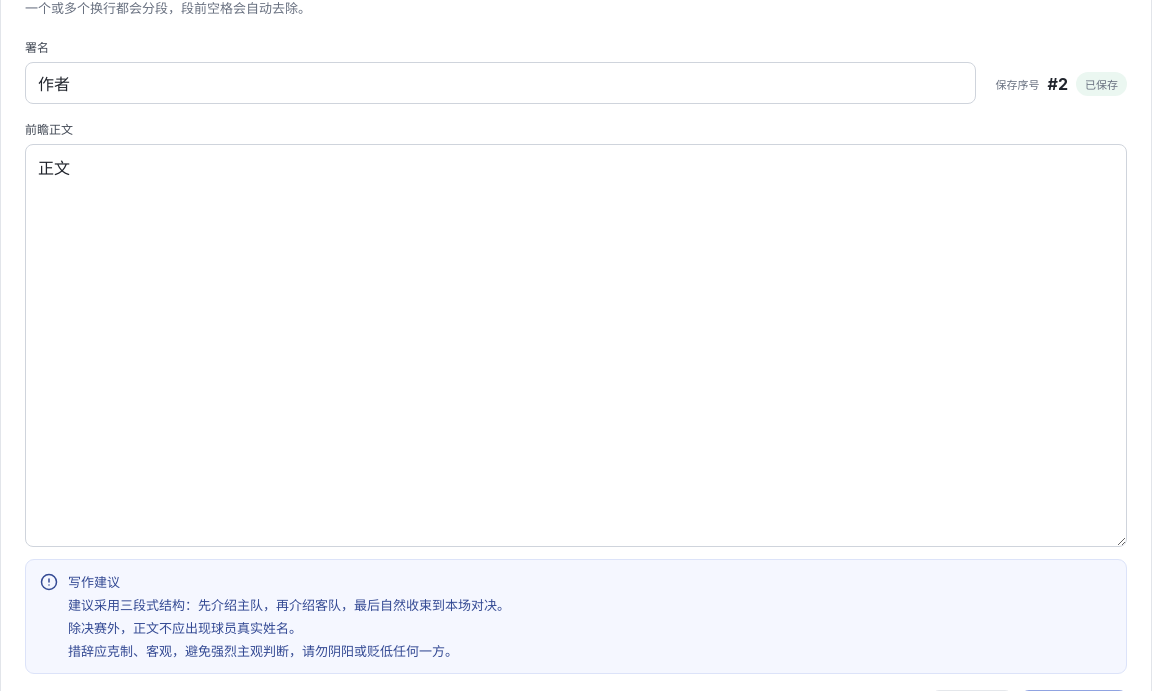
batch and match pages › shows match history fallbacks and protects unsaved navigation
(page scrolled)
Expected: the text "建议采用三段式结构：先介绍主队，再介绍客队，最后自然收束到本场对决。" is shown, x1=68 y1=597 x2=510 y2=613
Expected: the text "除决赛外，正文不应出现球员真实姓名。" is shown, x1=68 y1=620 x2=302 y2=636
Replace the text in the text box with placeholder "粘贴或填写本场比赛的前瞻正文……" with "尚未保存" at (576, 345), box x1=25 y1=144 x2=1127 y2=547
(page scrolled)
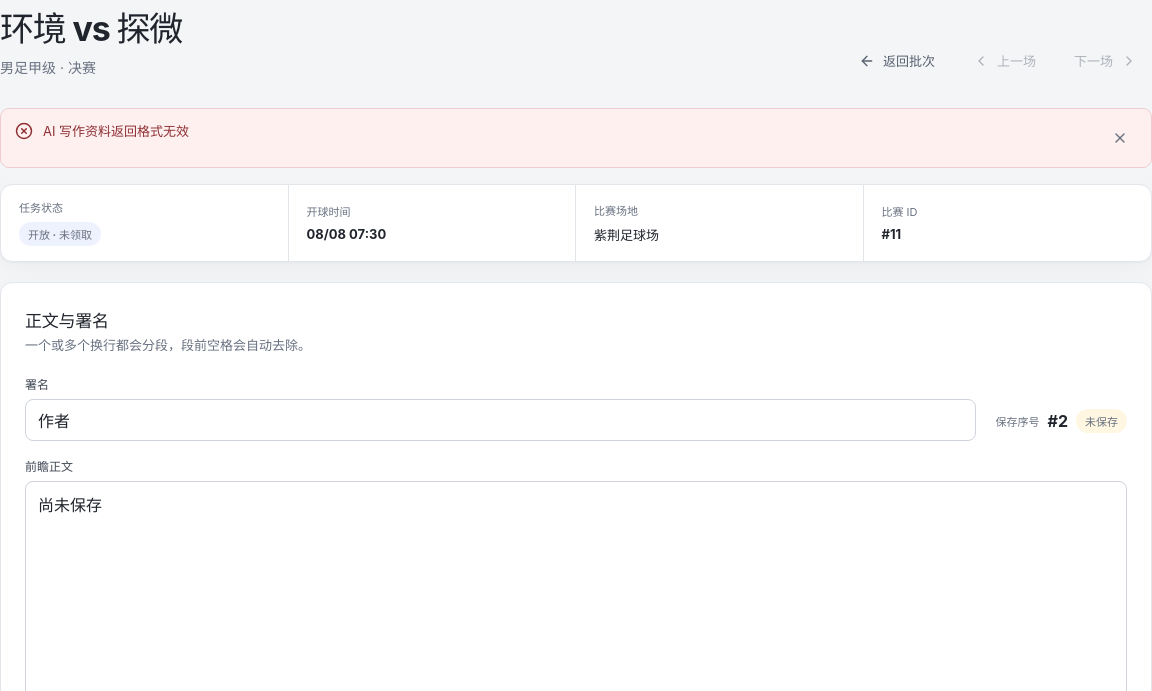
Click the link "返回批次" at (897, 61), box x1=859 y1=52 x2=935 y2=69
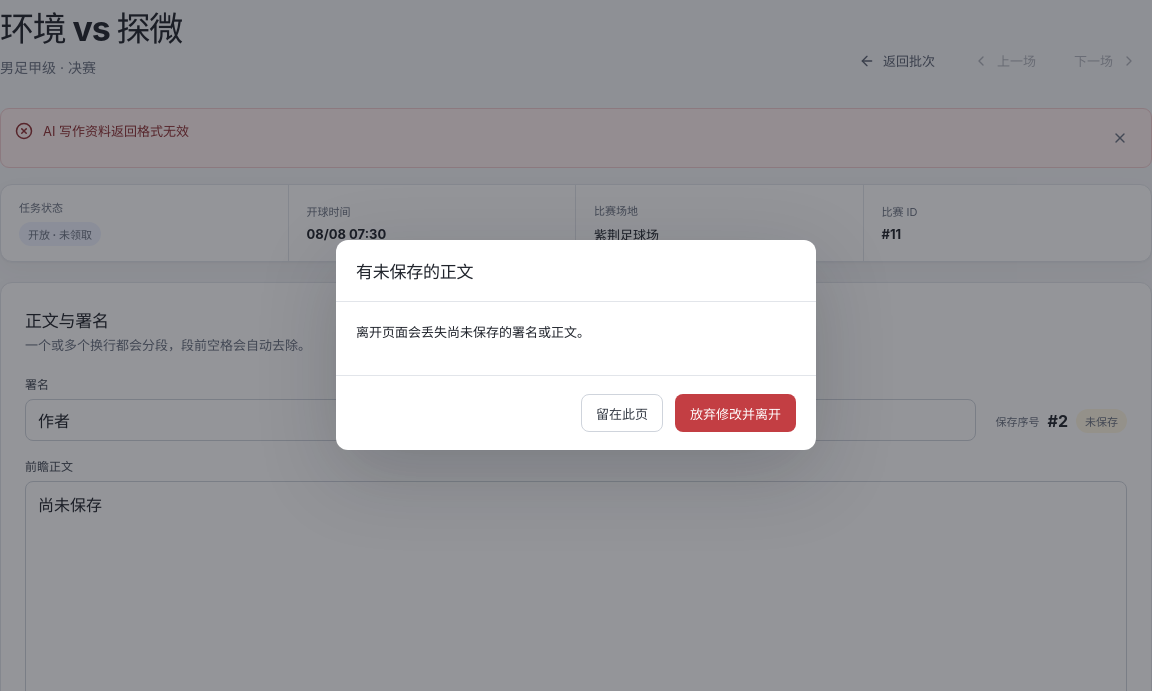
Now the dialog "有未保存的正文" is shown, box x1=336 y1=240 x2=816 y2=450
